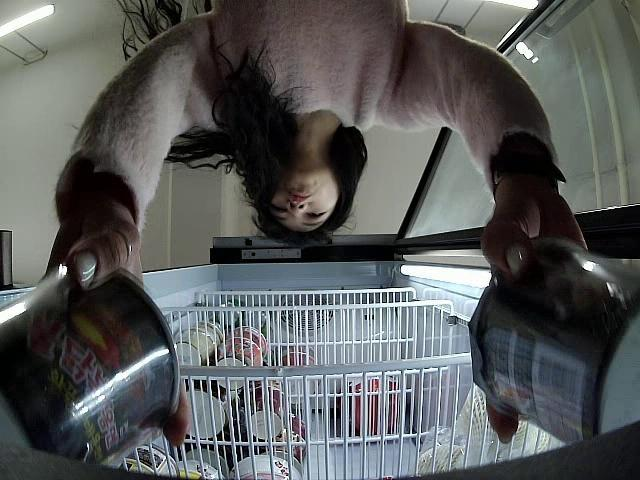08_buldak_S: (0, 254, 181, 464), (467, 236, 640, 446)
